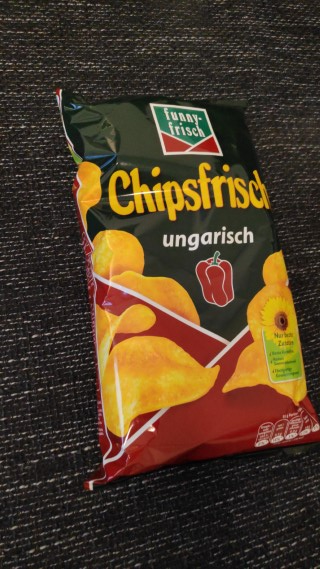chipsfrisch: (52, 85, 320, 494)
